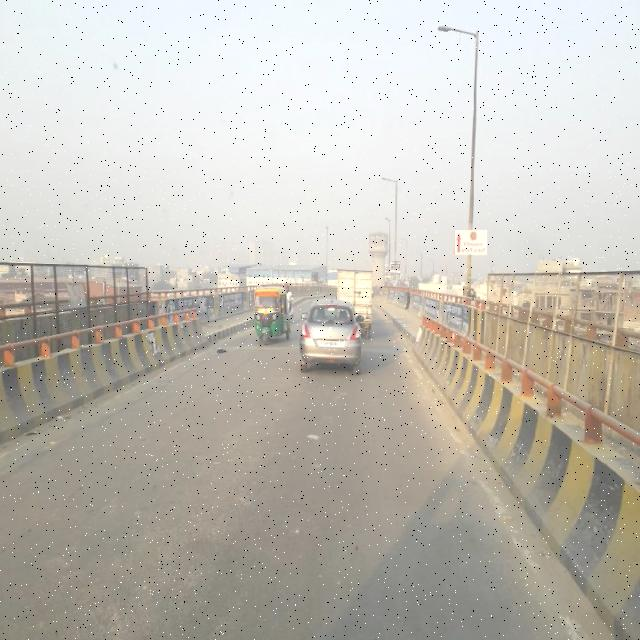D44: (442, 416, 586, 629)
